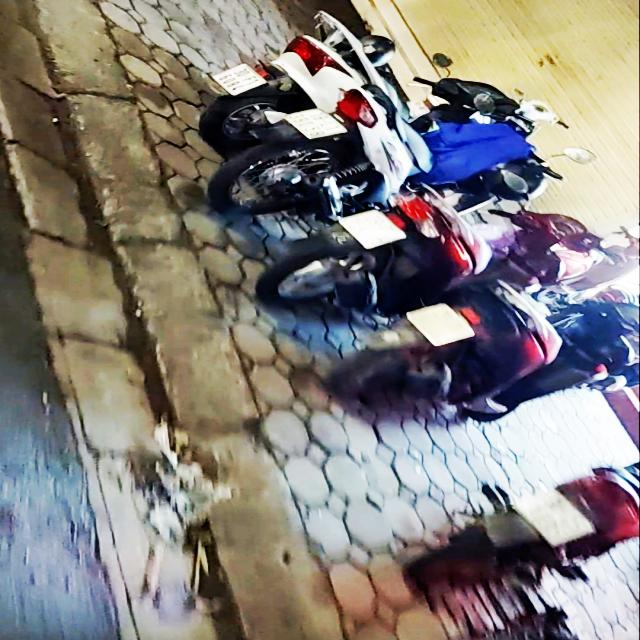license_plate: (277, 106, 355, 144), (208, 61, 272, 99)
